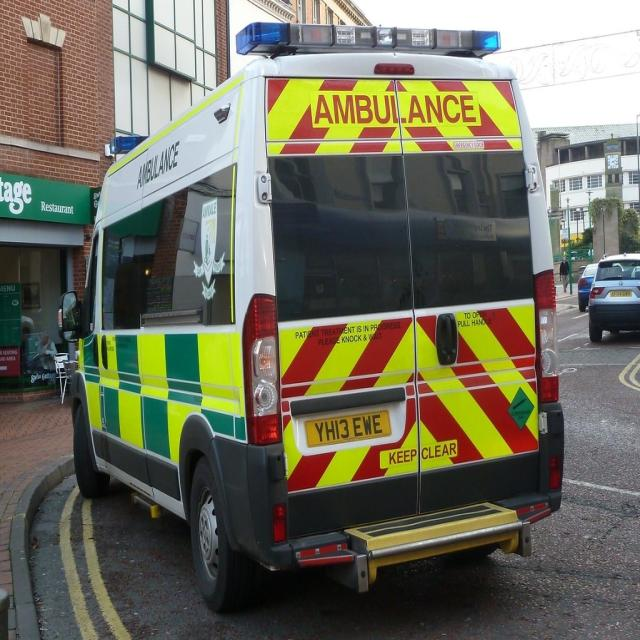ambulance: (58, 20, 564, 612)
